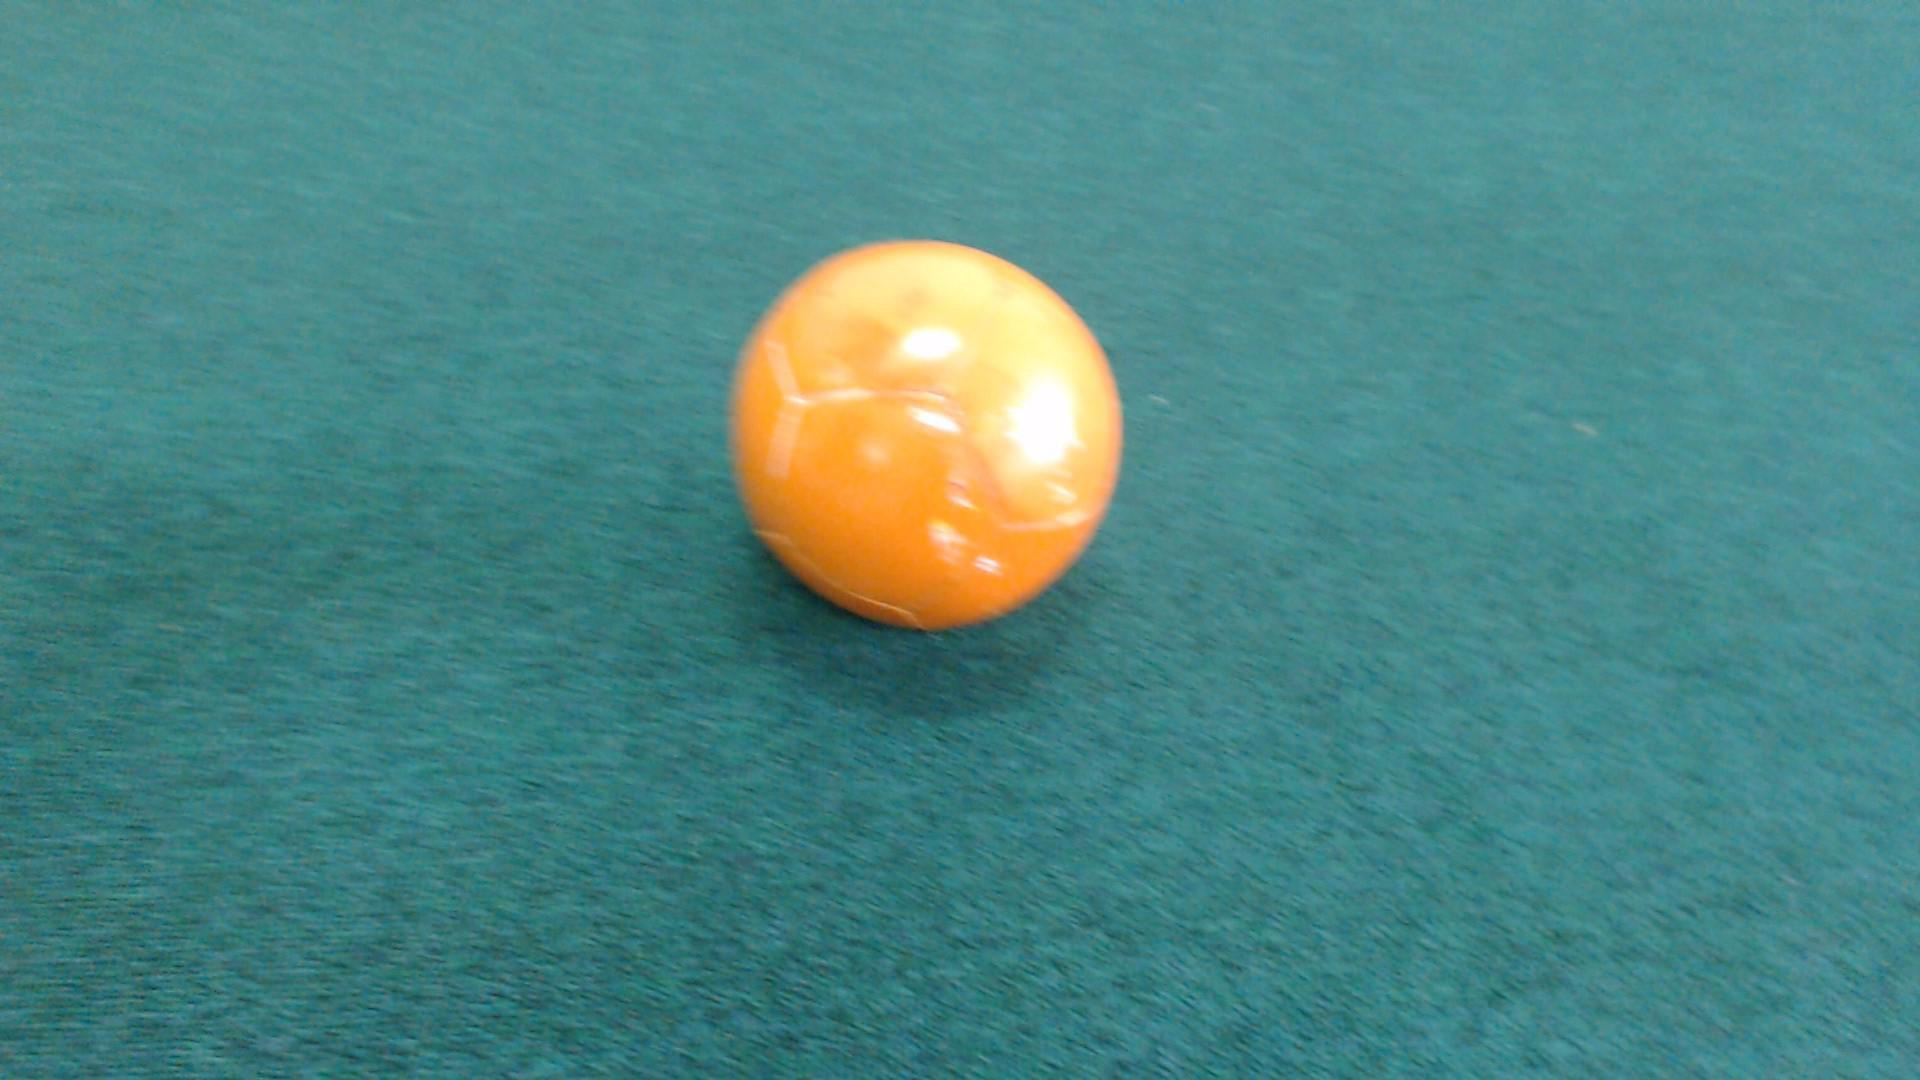bola: (696, 227, 1145, 653)
